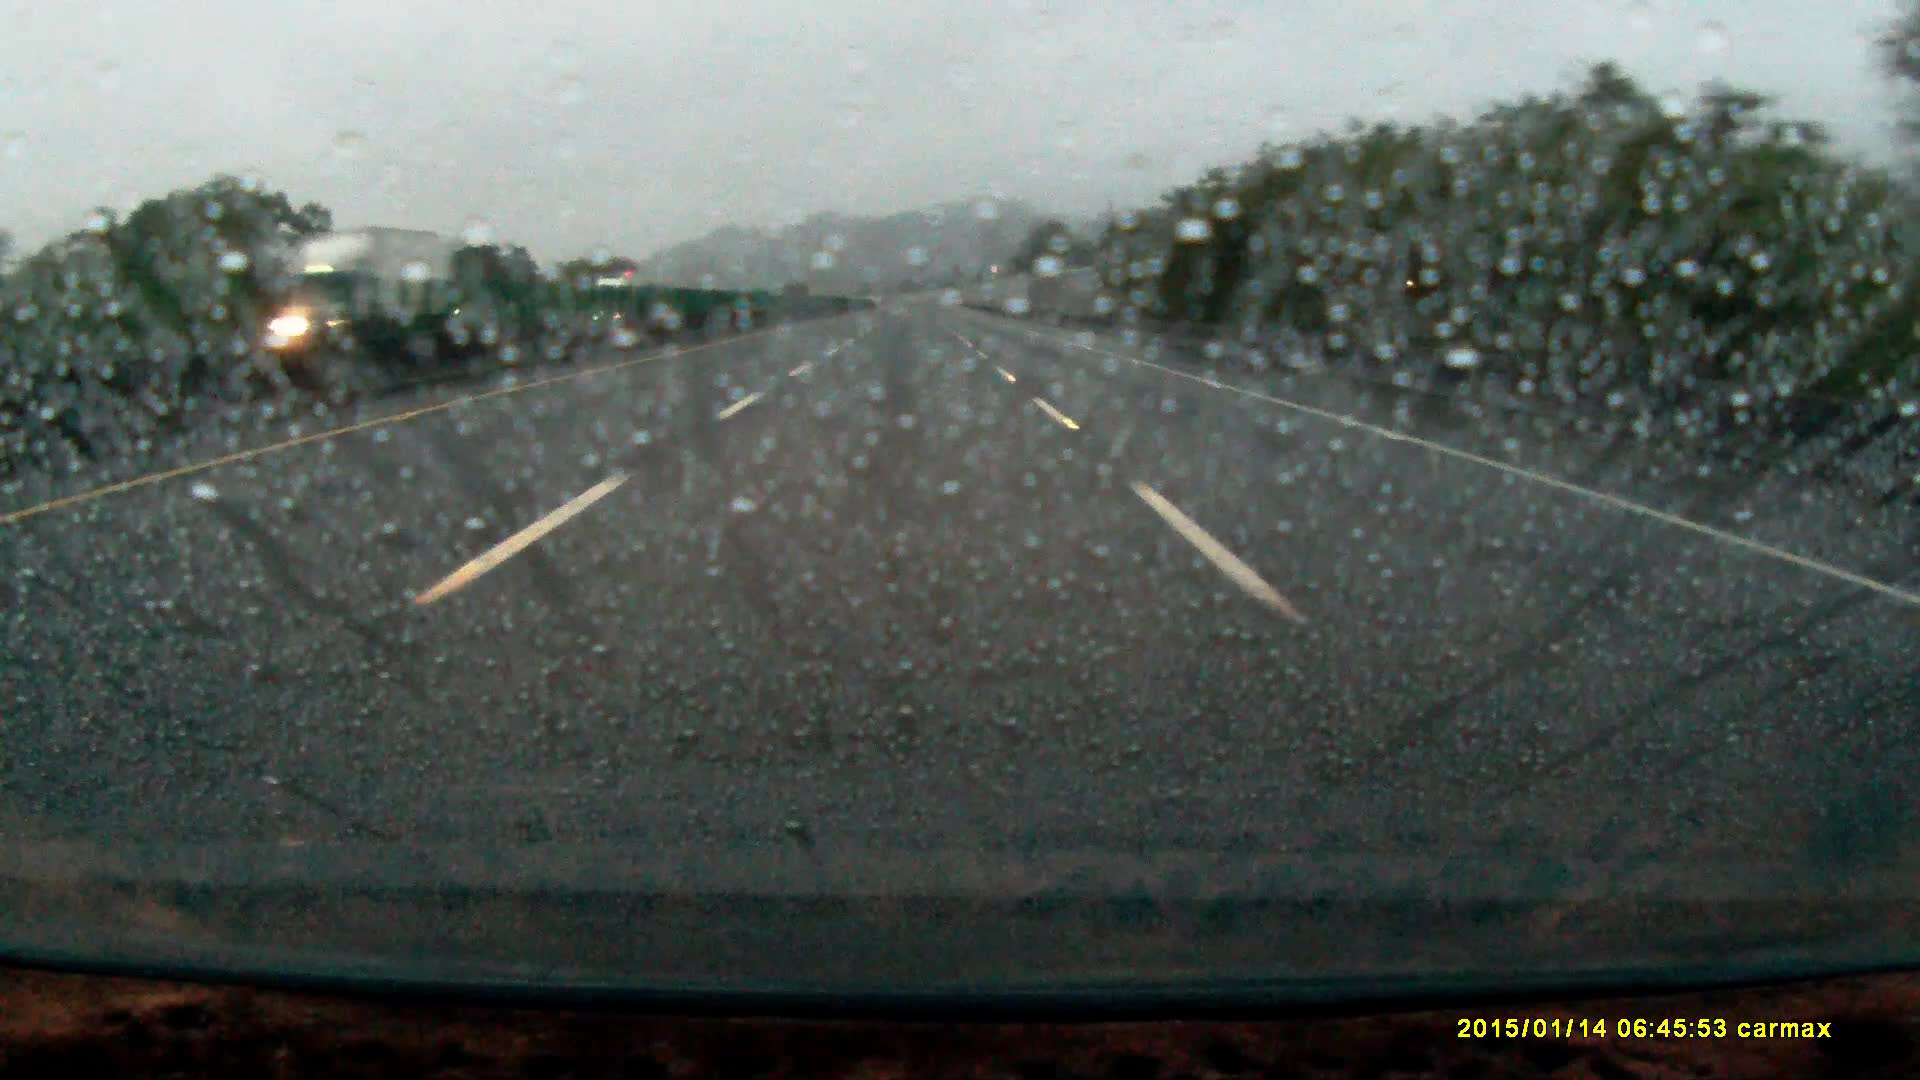vehicle: (256, 223, 472, 375), (592, 272, 654, 320)
